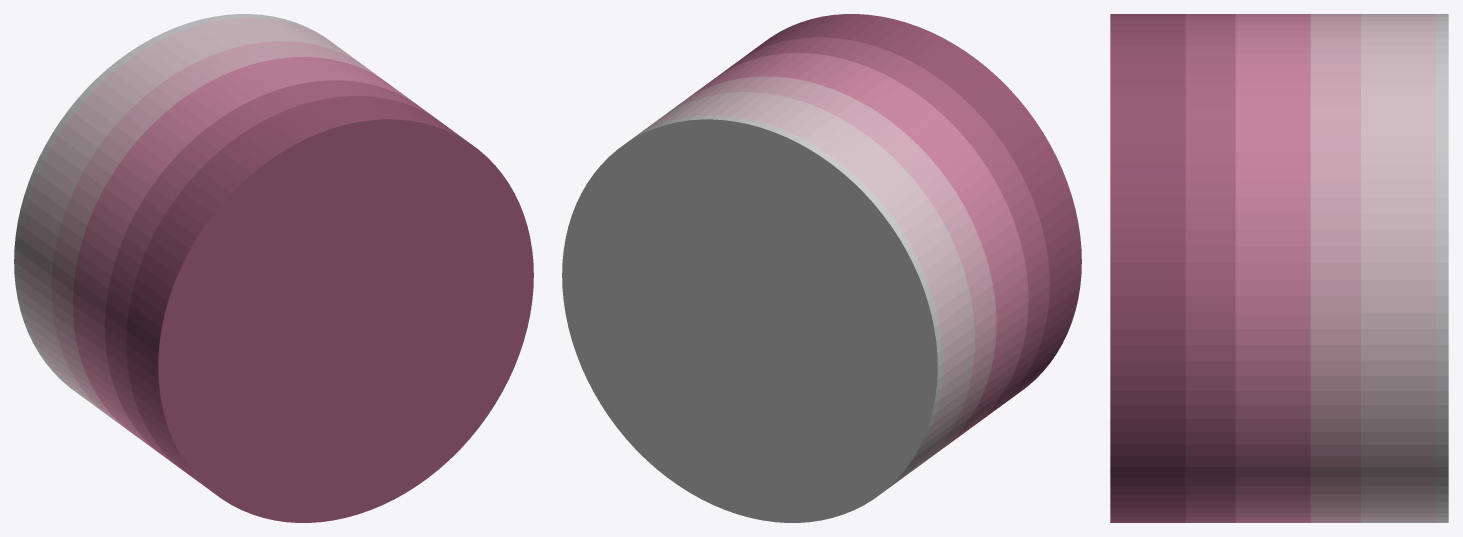
The model's file is cake_8in_layers3.glb.
3 renders of one model, left to right at view 1: azimuth 30°, elevation 25°; view 2: azimuth 150°, elevation 25°; view 3: azimuth 270°, elevation 25°, orthographic. The views are drawn at different scales.
Visible parts, largest first — view 1: geometry_4, geometry_0, geometry_2, geometry_1, geometry_3, geometry_5; view 2: geometry_5, geometry_4, geometry_2, geometry_0, geometry_1, geometry_3; view 3: geometry_2, geometry_4, geometry_0, geometry_1, geometry_3, geometry_5.
Boxes of the visible parts, x1=… form: geometry_4: x1=126, y1=96, x2=533, y2=522; geometry_0: x1=19, y1=18, x2=360, y2=413; geometry_2: x1=72, y1=57, x2=415, y2=452; geometry_1: x1=51, y1=41, x2=382, y2=428; geometry_3: x1=105, y1=80, x2=435, y2=467; geometry_5: x1=14, y1=14, x2=328, y2=389; geometry_5: x1=562, y1=115, x2=942, y2=522; geometry_4: x1=740, y1=14, x2=1081, y2=409; geometry_2: x1=687, y1=53, x2=1028, y2=447; geometry_0: x1=634, y1=92, x2=974, y2=488; geometry_1: x1=665, y1=76, x2=996, y2=464; geometry_3: x1=718, y1=37, x2=1049, y2=425; geometry_2: x1=1235, y1=14, x2=1310, y2=522; geometry_4: x1=1110, y1=14, x2=1185, y2=522; geometry_0: x1=1361, y1=14, x2=1435, y2=522; geometry_1: x1=1310, y1=14, x2=1360, y2=522; geometry_3: x1=1185, y1=14, x2=1235, y2=522; geometry_5: x1=1436, y1=14, x2=1448, y2=522.
Bounding box in the file's own units: 0.2032 × 0.2032 × 0.135.
